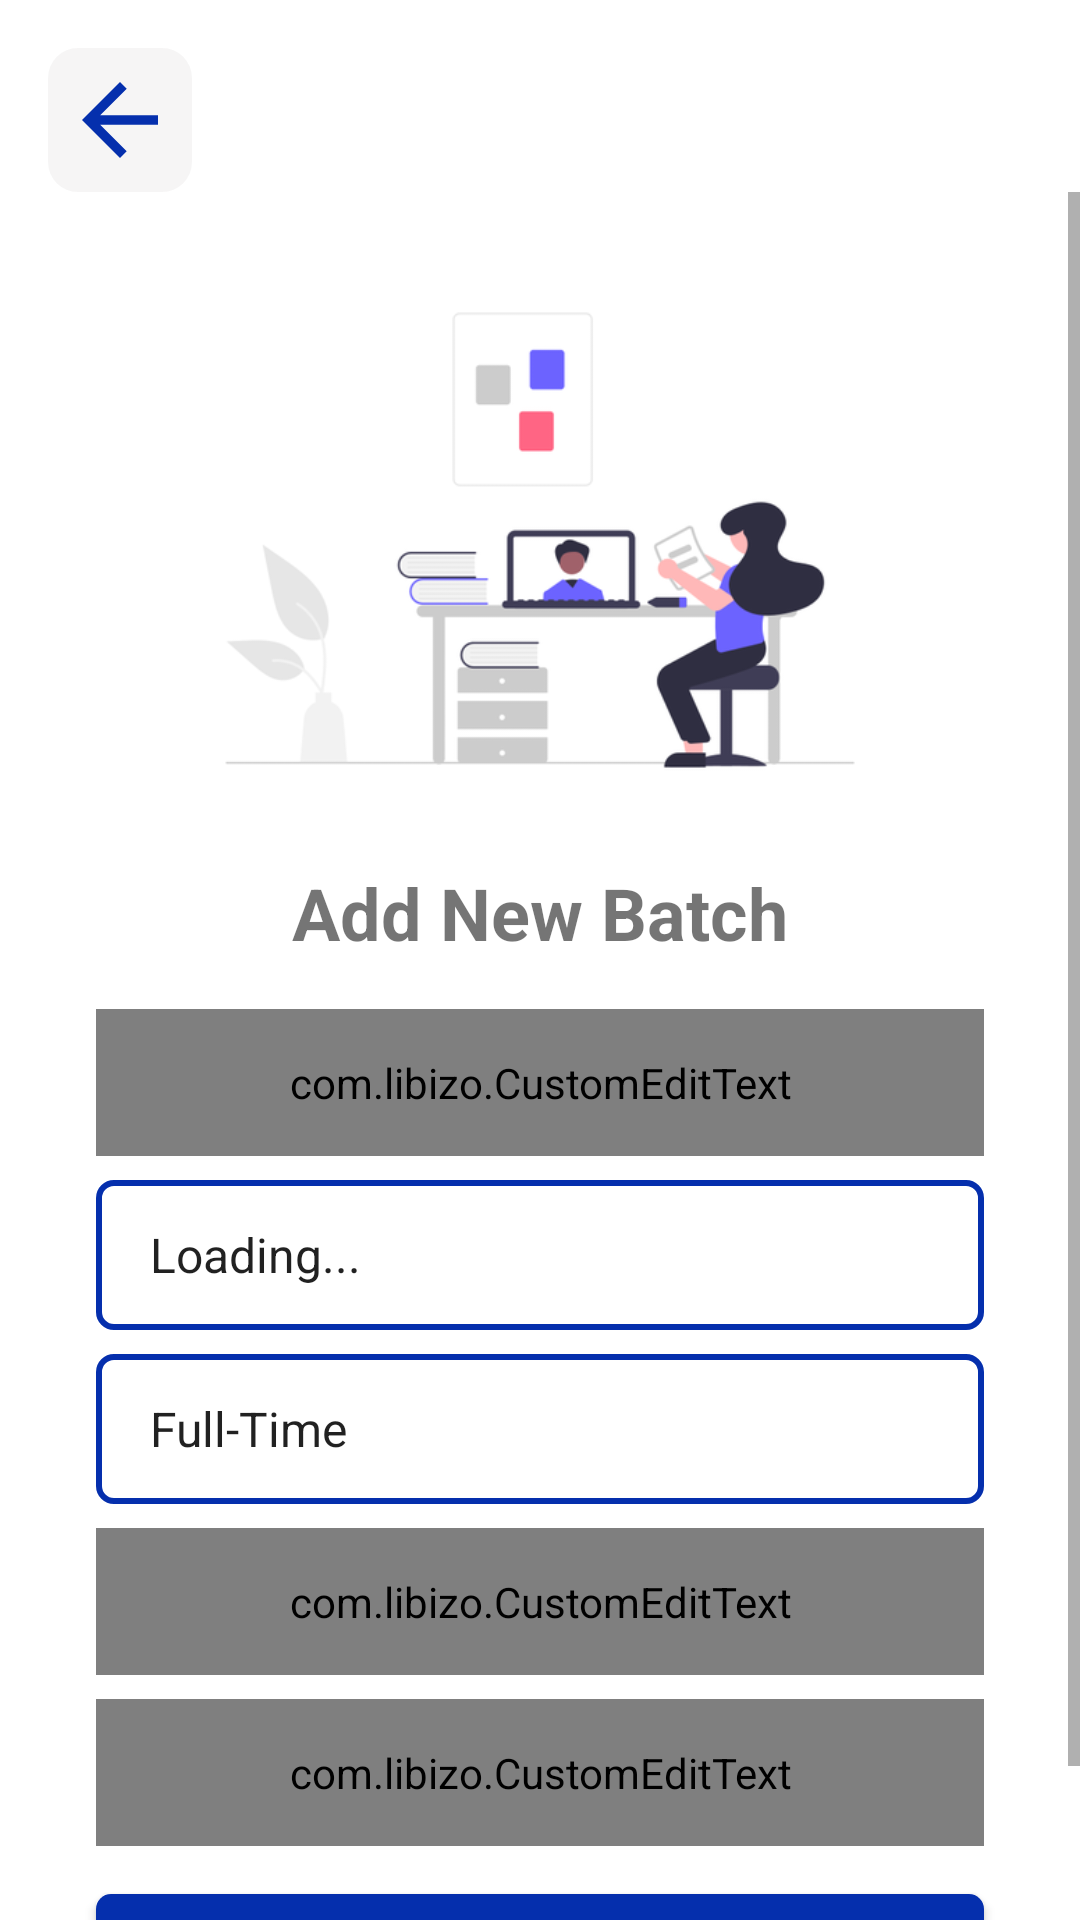

Icon bounding boxes for this 1080*1920 phone screenshot, format (left=x1, top=y1, right=x2, bottom=y2):
back: (left=48, top=48, right=192, bottom=192)
